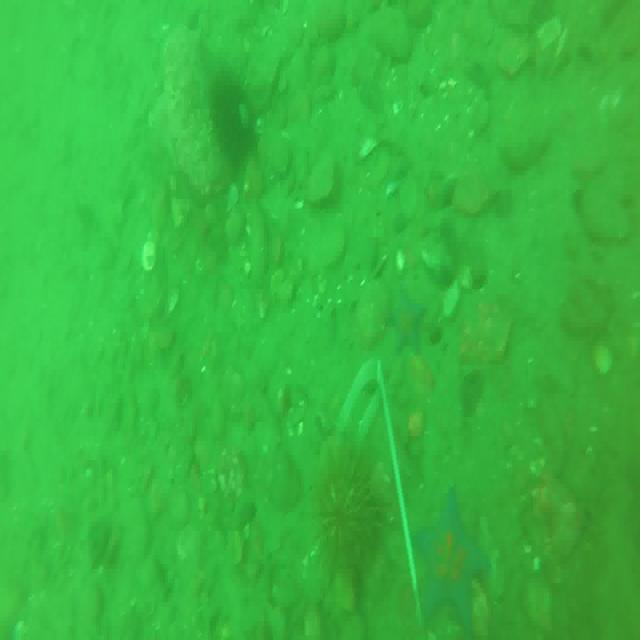echinus: (318, 444, 384, 586), (209, 65, 257, 160)
scallop: (537, 18, 562, 53), (592, 343, 615, 381), (140, 241, 156, 271), (360, 138, 378, 160), (396, 249, 406, 270)
starfish: (414, 492, 491, 640), (384, 289, 423, 364)
